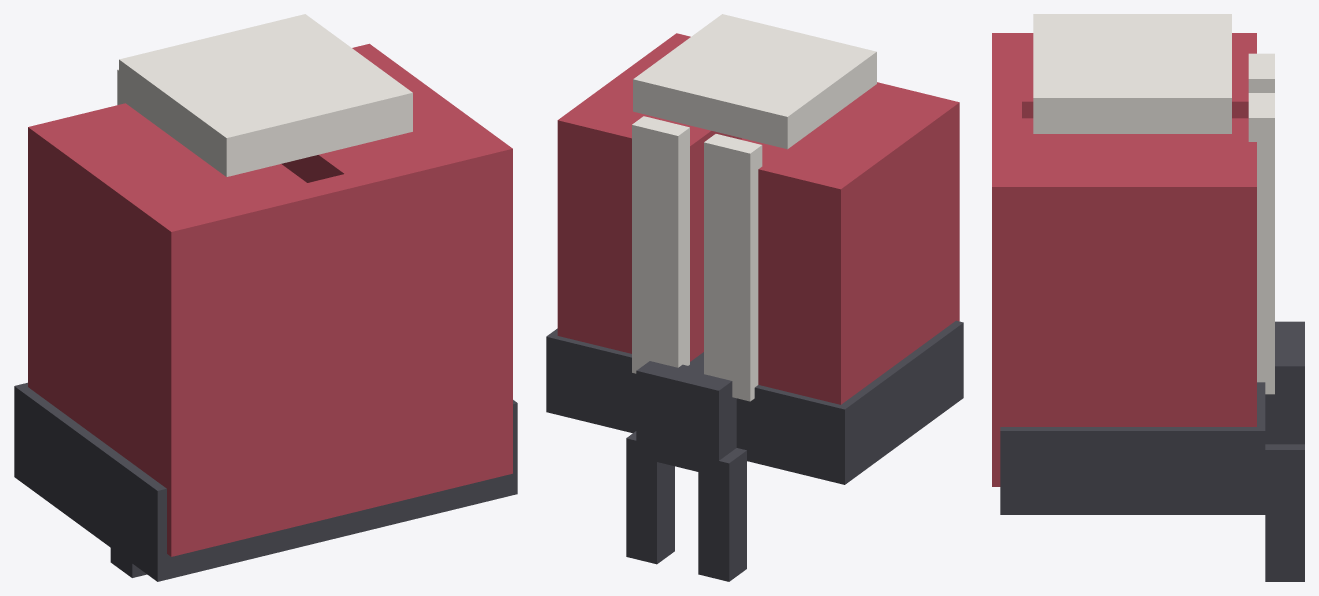
Rendered from samurai_fem_tronco.glb.
3 views of the same model, side by side, from view 1: azimuth 30°, elevation 25°; view 2: azimuth 150°, elevation 25°; view 3: azimuth 270°, elevation 25° (orthographic). The views are drawn at different scales.
Parts seen in each view (by area): view 1: samurai_fem_tronco; view 2: samurai_fem_tronco; view 3: samurai_fem_tronco.
Boxes of the visible parts, bbox=[...] form: samurai_fem_tronco: bbox=[14, 14, 517, 581]; samurai_fem_tronco: bbox=[546, 14, 963, 581]; samurai_fem_tronco: bbox=[992, 14, 1304, 581].
Size of the model in its own units: 0.58 by 0.83 by 0.4725.
